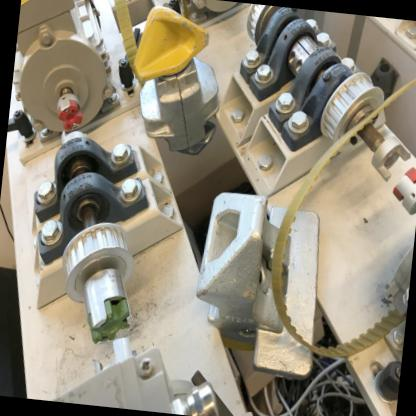Twistlock: (188, 182, 330, 382), (123, 0, 234, 162)
